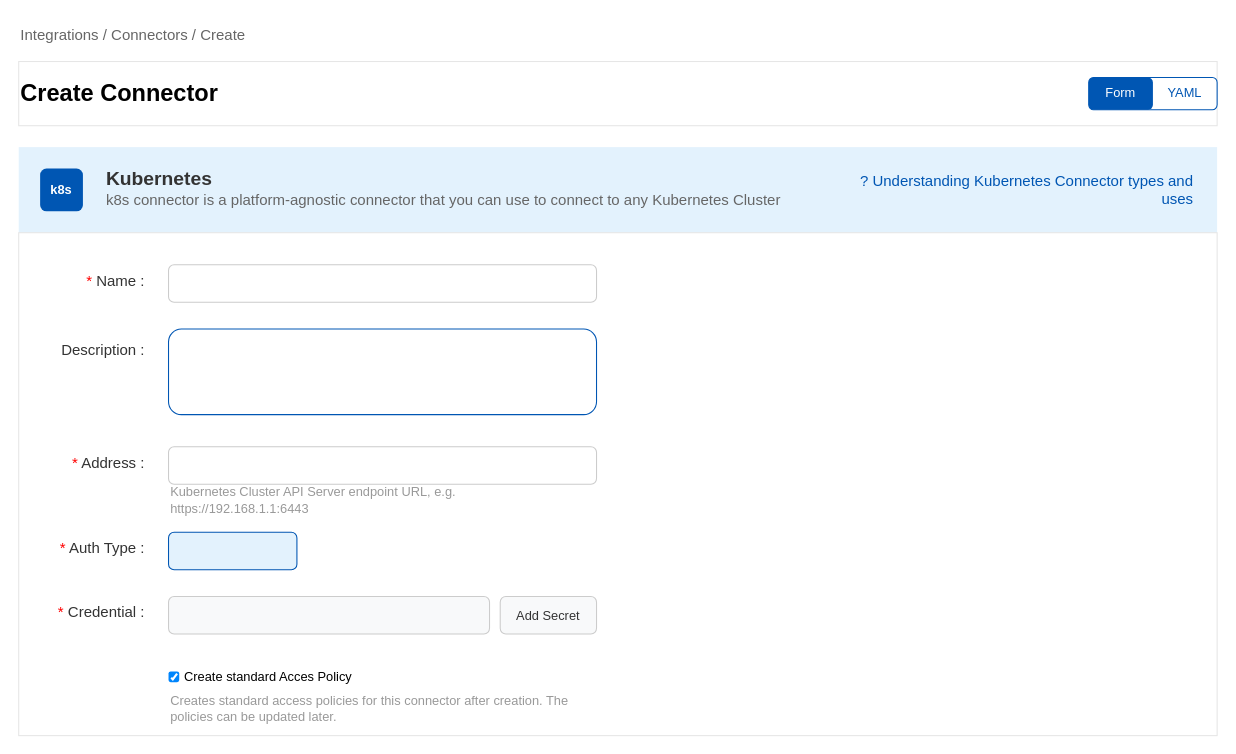
Image size: 1236x754. Some labels were removed from this diagram. Here are the shapes that lost their labels. From the top down, the centre of each, then its label:
At point 232,550: "Bearer Token".
At point 328,614: "Select an existing Secret or create one v".
